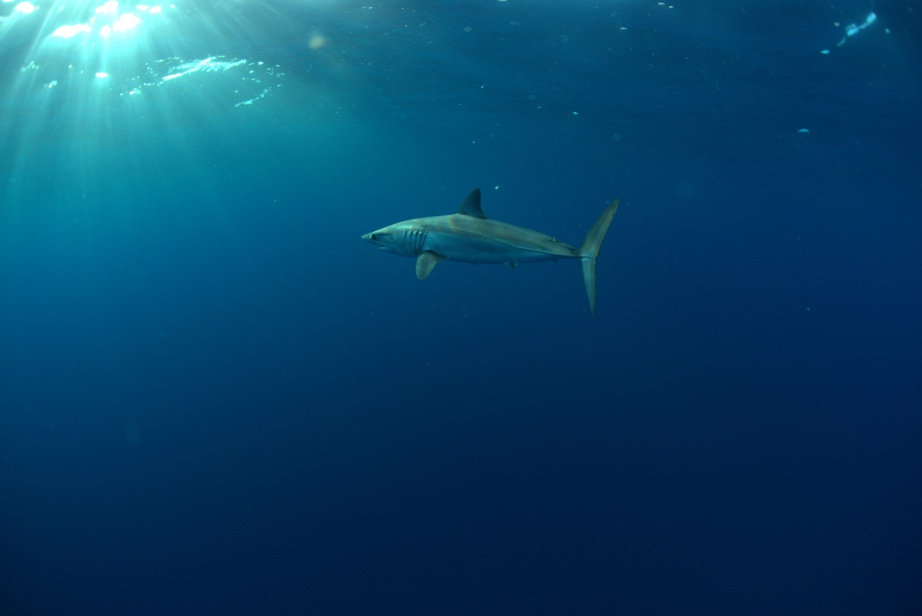Mako: (322, 182, 656, 339)
